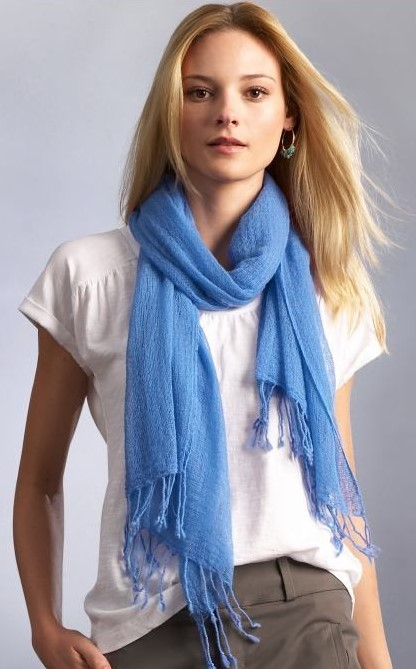face_no_mask: (170, 13, 285, 177)
